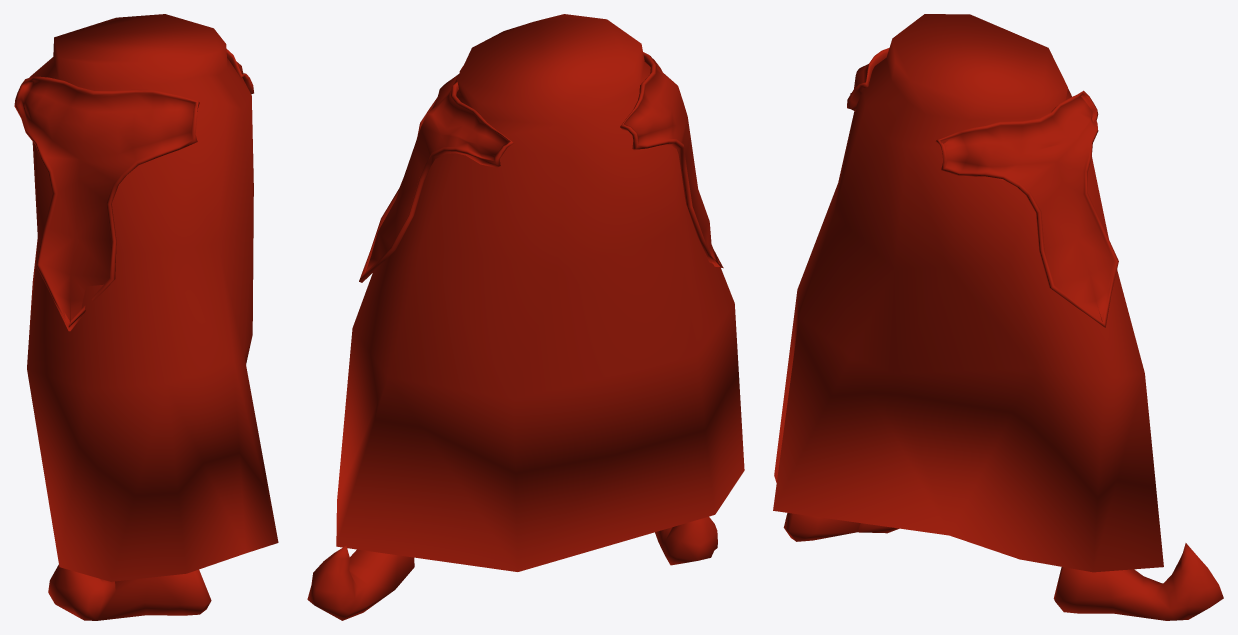
File: bot_000086.obj
3 views of the same model, side by side, from view 1: azimuth 30°, elevation 25°; view 2: azimuth 150°, elevation 25°; view 3: azimuth 270°, elevation 25° (orthographic).
Visible parts, largest first — view 1: LowPoly_Warlock.004_Plane.004; view 2: LowPoly_Warlock.004_Plane.004; view 3: LowPoly_Warlock.004_Plane.004.
Part boxes in pixels (<box>): LowPoly_Warlock.004_Plane.004: <box>14,14,278,620</box>; LowPoly_Warlock.004_Plane.004: <box>307,14,744,620</box>; LowPoly_Warlock.004_Plane.004: <box>773,14,1223,620</box>.
Size of the model in its own units: 0.6235 by 1.1 by 0.8599.
